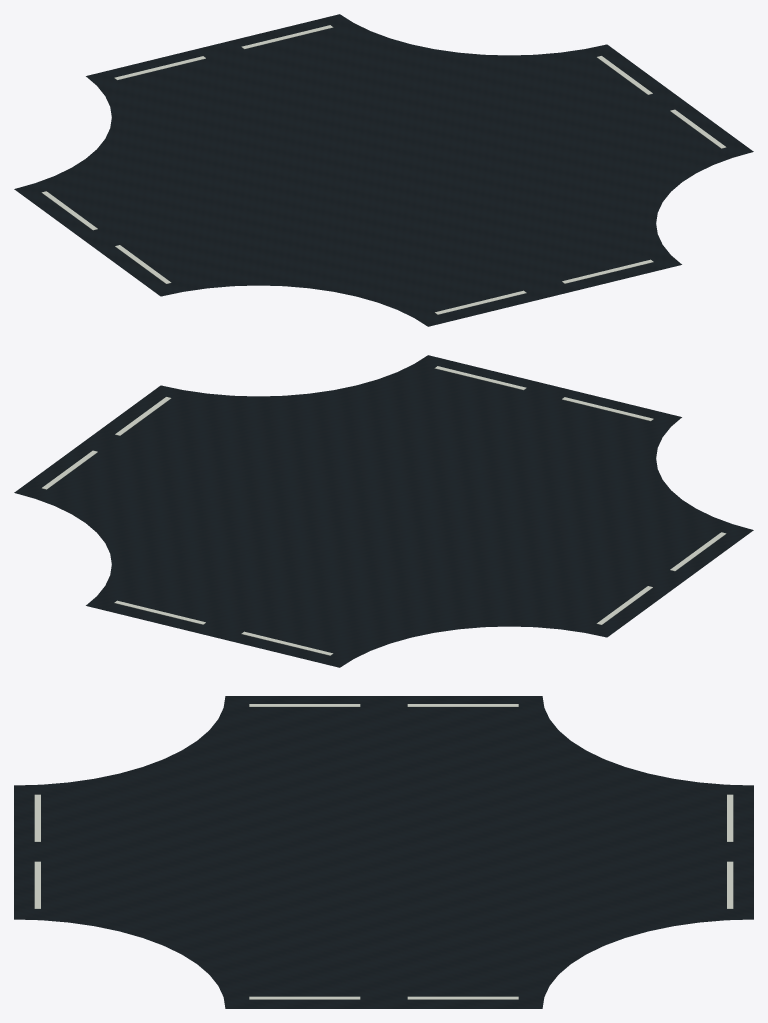
File: Transit_Road_2L_XJunction_R4.glb
The picture shows the model from 3 angles, top to bottom: view 1: azimuth 30°, elevation 25°; view 2: azimuth 150°, elevation 25°; view 3: azimuth 270°, elevation 25°; orthographic projection. The views are drawn at different scales.
Visible parts, largest first — view 1: Transit_Road_2L_XJunction_R4_Surface, Transit_Road_2L_XJunction_R4_MarkStop2, Transit_Road_2L_XJunction_R4_MarkStop3, Transit_Road_2L_XJunction_R4_MarkStop0, Transit_Road_2L_XJunction_R4_MarkStop1; view 2: Transit_Road_2L_XJunction_R4_Surface, Transit_Road_2L_XJunction_R4_MarkStop2, Transit_Road_2L_XJunction_R4_MarkStop3, Transit_Road_2L_XJunction_R4_MarkStop0, Transit_Road_2L_XJunction_R4_MarkStop1; view 3: Transit_Road_2L_XJunction_R4_Surface, Transit_Road_2L_XJunction_R4_MarkStop1, Transit_Road_2L_XJunction_R4_MarkStop0, Transit_Road_2L_XJunction_R4_MarkStop2, Transit_Road_2L_XJunction_R4_MarkStop3.
Part boxes in pixels (x1,y1,x2,y2): Transit_Road_2L_XJunction_R4_Surface: (14, 14, 753, 326); Transit_Road_2L_XJunction_R4_MarkStop2: (434, 259, 653, 314); Transit_Road_2L_XJunction_R4_MarkStop3: (114, 25, 333, 80); Transit_Road_2L_XJunction_R4_MarkStop0: (41, 191, 171, 283); Transit_Road_2L_XJunction_R4_MarkStop1: (596, 56, 726, 148); Transit_Road_2L_XJunction_R4_Surface: (14, 355, 753, 667); Transit_Road_2L_XJunction_R4_MarkStop2: (434, 366, 653, 421); Transit_Road_2L_XJunction_R4_MarkStop3: (114, 600, 333, 655); Transit_Road_2L_XJunction_R4_MarkStop0: (596, 532, 726, 624); Transit_Road_2L_XJunction_R4_MarkStop1: (41, 397, 171, 489); Transit_Road_2L_XJunction_R4_Surface: (14, 696, 753, 1008); Transit_Road_2L_XJunction_R4_MarkStop1: (249, 996, 518, 999); Transit_Road_2L_XJunction_R4_MarkStop0: (249, 704, 518, 706); Transit_Road_2L_XJunction_R4_MarkStop2: (34, 794, 40, 908); Transit_Road_2L_XJunction_R4_MarkStop3: (727, 794, 733, 908).
Bounding box in the file's own units: 14 × 0.0165 × 14.
2 materials, 1 textured.
